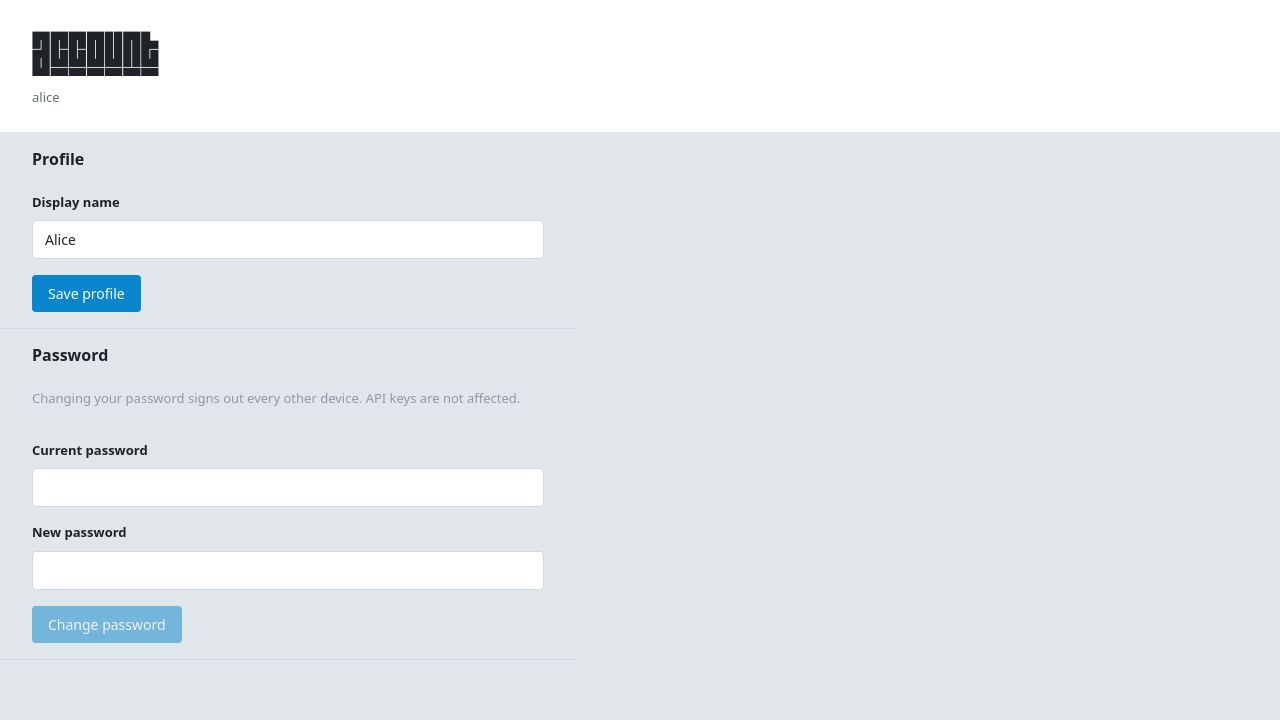
Scenario: Account › disables the password submit until both fields are filled
Check: the button "Change password" is disabled, box [32, 606, 182, 642]
Type "old-pw" into the password field labelled "Current password".
click(288, 488); type("old-pw")  # box [32, 468, 544, 507]
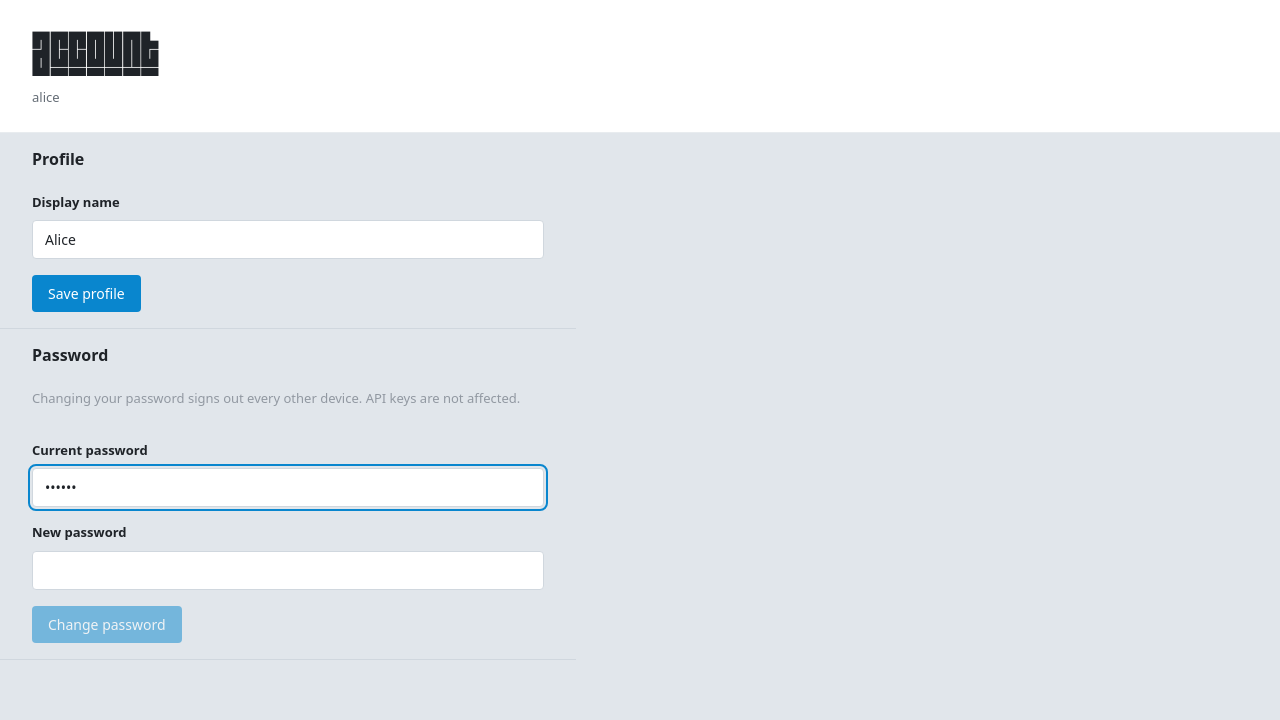
Check: the button "Change password" is disabled, box [32, 606, 182, 642]
Type "new-pw" into the password field labelled "New password".
click(288, 570); type("new-pw")  # box [32, 550, 544, 590]
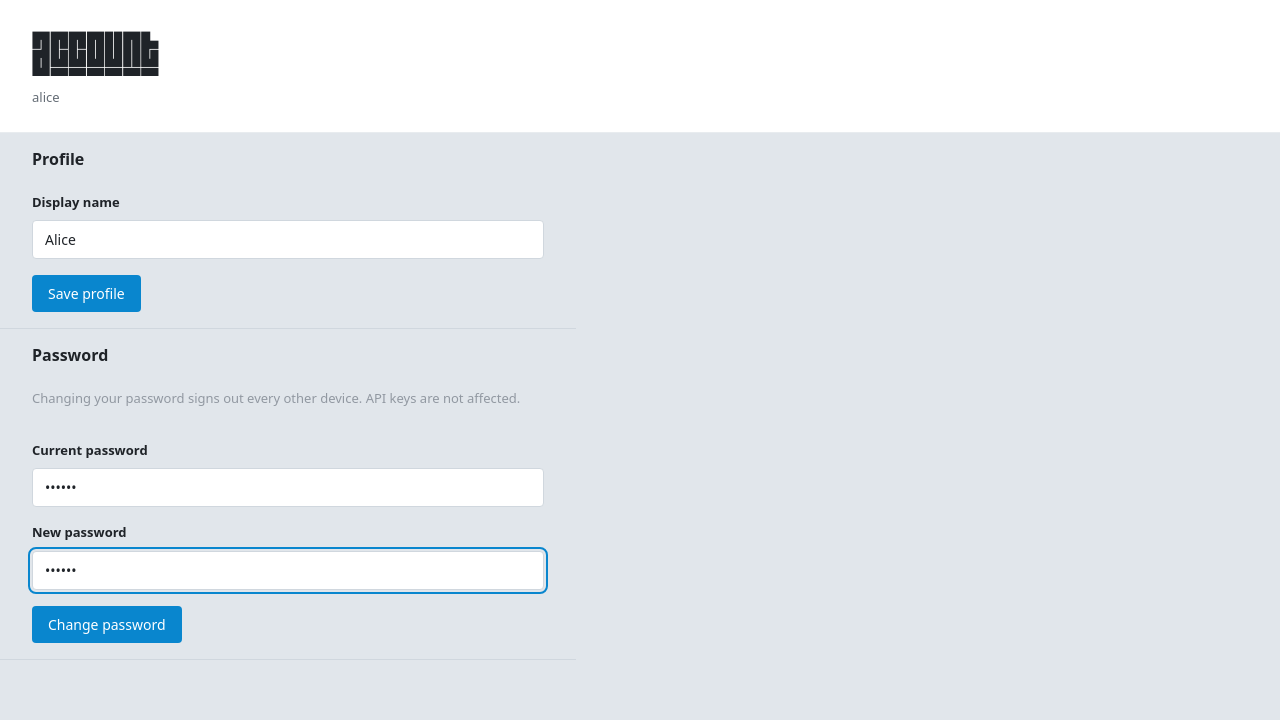
Check: the button "Change password" is enabled, box [32, 606, 182, 642]
